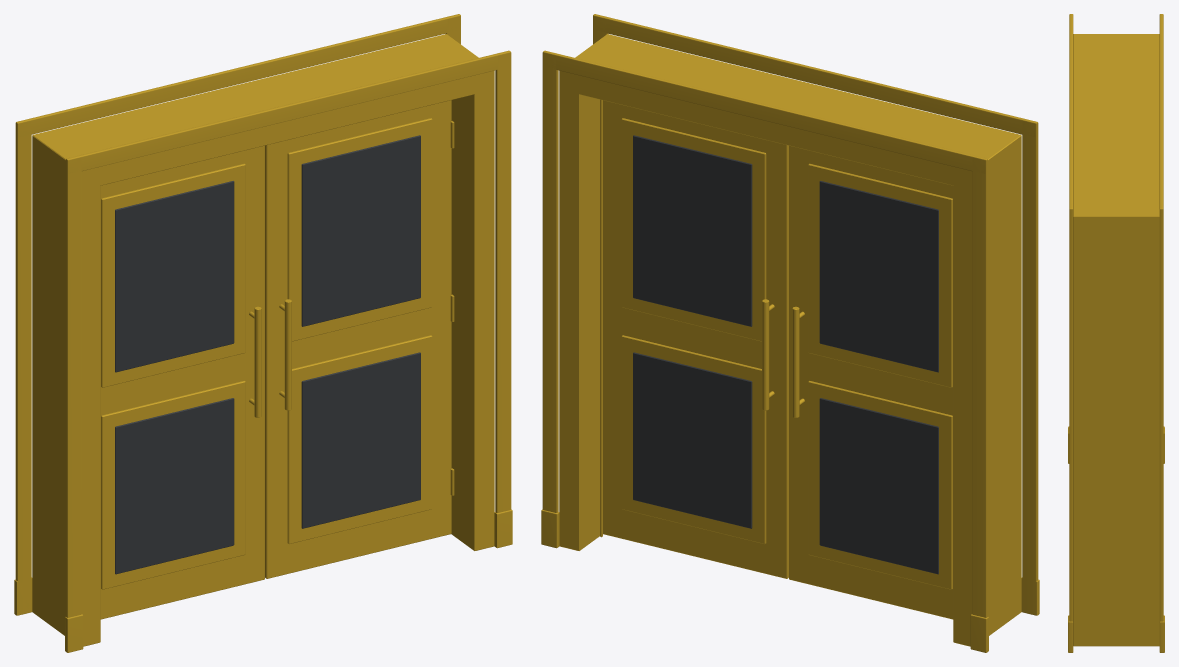
File: prop_door_double_bronze_t40.glb
3 views of the same model, side by side, from view 1: azimuth 30°, elevation 25°; view 2: azimuth 150°, elevation 25°; view 3: azimuth 270°, elevation 25° (orthographic). The views are drawn at different scales.
Parts seen in each view (by area): view 1: Frame, LeafMesh2, LeafMesh; view 2: Frame, LeafMesh2, LeafMesh; view 3: Frame.
Boxes of the visible parts, x1,y1,x2,y2 form: Frame: [14, 14, 512, 652]; LeafMesh2: [265, 100, 454, 578]; LeafMesh: [100, 145, 264, 619]; Frame: [541, 14, 1039, 652]; LeafMesh2: [603, 100, 788, 578]; LeafMesh: [789, 145, 953, 619]; Frame: [1068, 14, 1164, 652].
Size of what is drawn, in the model's own units: 2.15 by 2.27 by 0.448.
